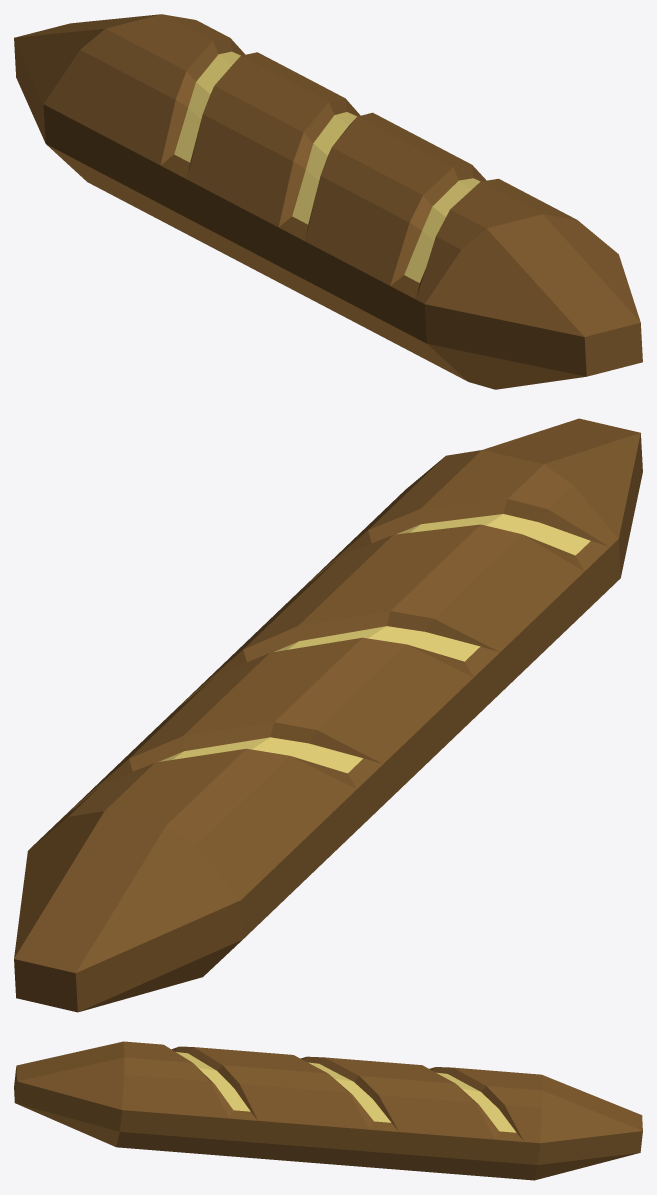
File: food_baguette.fbx
The picture shows the model from 3 angles, top to bottom: view 1: azimuth 30°, elevation 25°; view 2: azimuth 150°, elevation 25°; view 3: azimuth 270°, elevation 25°; orthographic projection. The views are drawn at different scales.
Visible parts, largest first — view 1: polySurface124; view 2: polySurface124; view 3: polySurface124.
Boxes of the visible parts, x1,y1,x2,y2 form: polySurface124: [14, 14, 642, 389]; polySurface124: [14, 418, 642, 1012]; polySurface124: [14, 1041, 642, 1180].
Bounding box in the file's own units: 38.35 × 38.28 × 174.
Materials: 1 (1 with a texture image).
